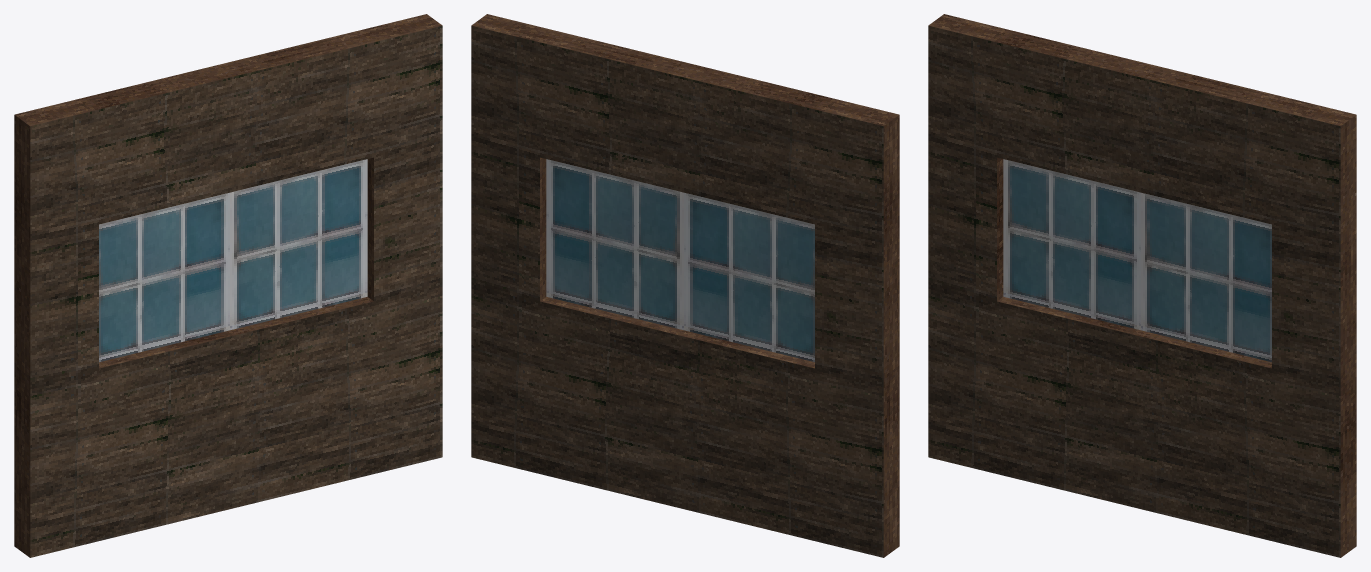
The model's file is window_small_double_03.glb.
3 views of the same model, side by side, from view 1: azimuth 30°, elevation 25°; view 2: azimuth 150°, elevation 25°; view 3: azimuth 330°, elevation 25° (orthographic).
Parts seen in each view (by area): view 1: window_small_double_032, window_small_03_002, window_small_03_001; view 2: window_small_double_032, window_small_03_002, window_small_03_001; view 3: window_small_double_032, window_small_03_001, window_small_03_002.
Boxes of the visible parts, x1,y1,x2,y2 form: window_small_double_032: (14,14,442,557); window_small_03_002: (230,159,367,330); window_small_03_001: (99,192,229,362); window_small_double_032: (471,14,899,557); window_small_03_002: (546,159,683,330); window_small_03_001: (684,192,814,362); window_small_double_032: (928,14,1356,557); window_small_03_001: (1003,159,1140,330); window_small_03_002: (1141,192,1271,362).
Bounding box in the file's own units: 3 × 3 × 0.2.
3 materials, 3 textured.
